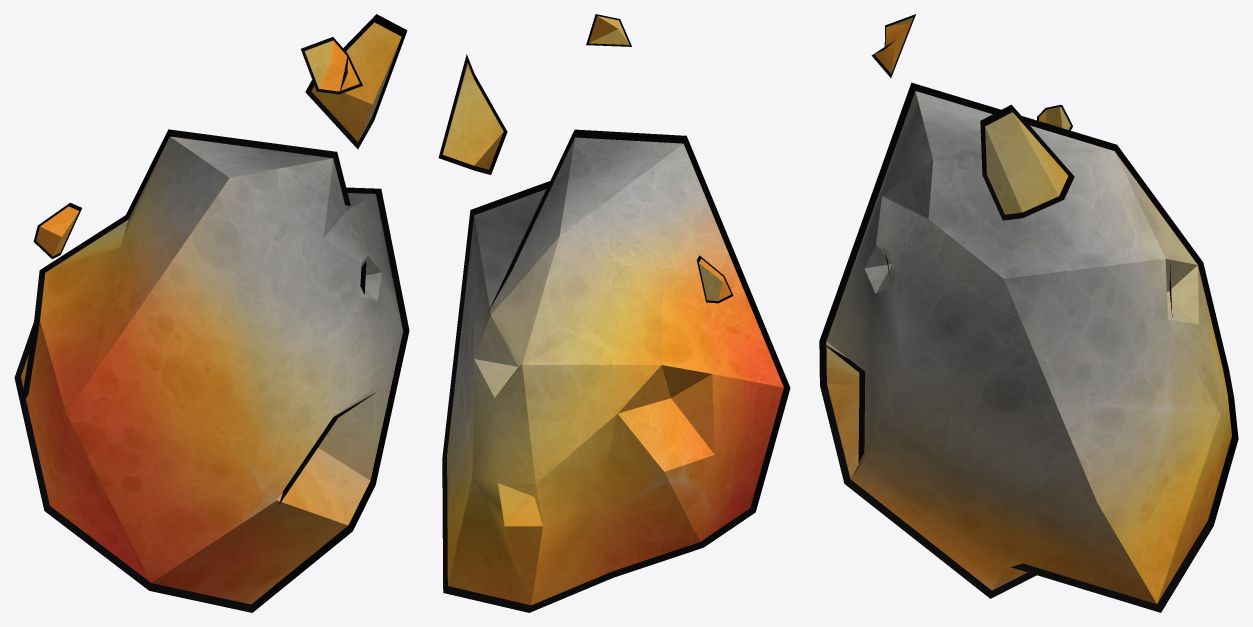
The model's file is meteor3.glb.
3 views of the same model, side by side, from view 1: azimuth 30°, elevation 25°; view 2: azimuth 150°, elevation 25°; view 3: azimuth 270°, elevation 25° (orthographic). The views are drawn at different scales.
Parts seen in each view (by area): view 1: Cube.006_3, Cube.001_1, Cube.007_4, Cube.010_2; view 2: Cube.006_3, Cube.001_1, Cube.007_4, Cube.010_2; view 3: Cube.006_3, Cube.001_1, Cube.007_4, Cube.010_2.
Part boxes in pixels (box(x1,y1,x2,y2)): Cube.006_3: box(21, 136, 403, 604); Cube.001_1: box(14, 129, 409, 612); Cube.007_4: box(36, 22, 401, 256); Cube.010_2: box(33, 14, 407, 259); Cube.006_3: box(447, 137, 783, 605); Cube.001_1: box(442, 129, 790, 612); Cube.007_4: box(443, 16, 731, 300); Cube.010_2: box(438, 14, 733, 303); Cube.006_3: box(826, 91, 1231, 603); Cube.001_1: box(819, 82, 1238, 612); Cube.007_4: box(874, 17, 1070, 214); Cube.010_2: box(871, 14, 1074, 220).
Bounding box in the file's own units: 5.07 × 8.15 × 5.18.
2 materials, 1 textured.
